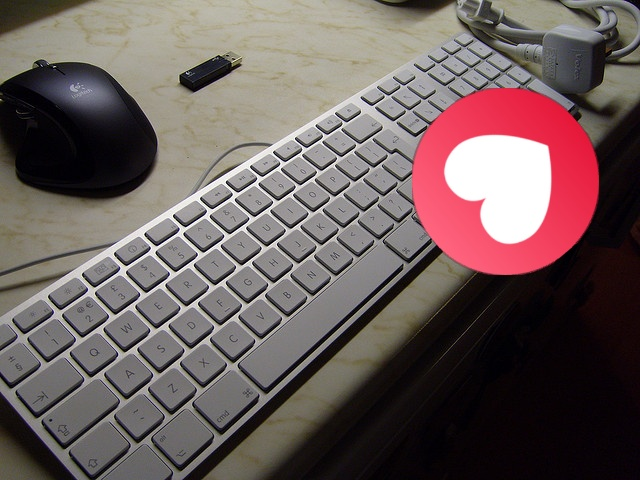love: (412, 88, 599, 275)
